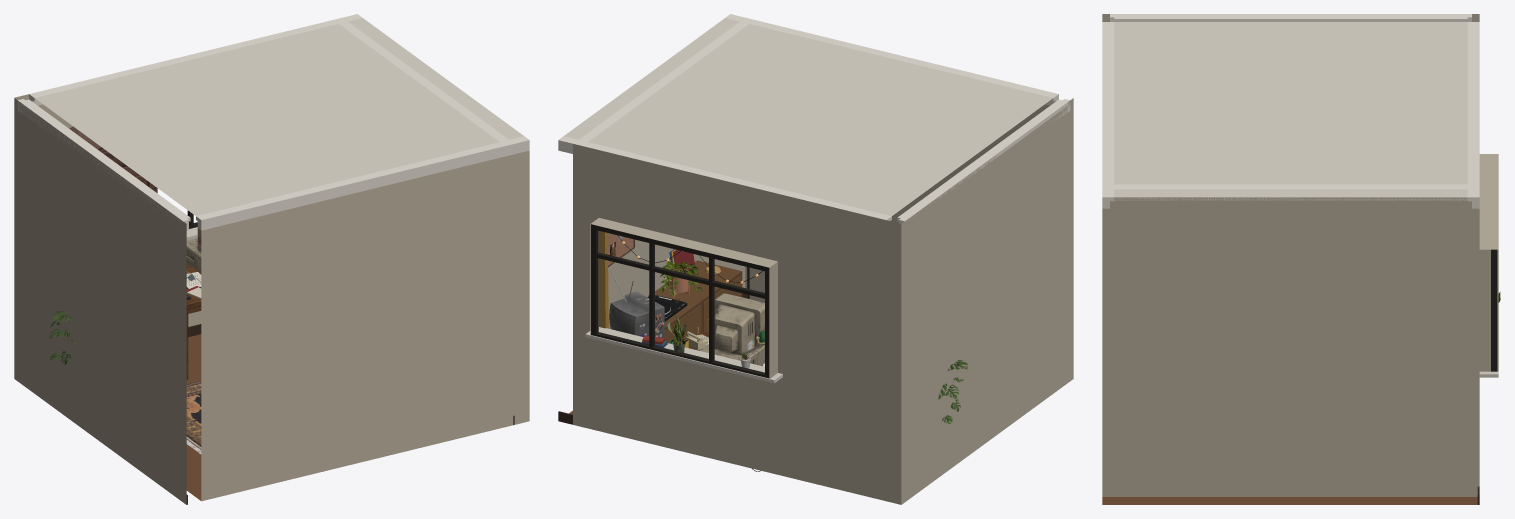
Rendered from room.glb.
The picture shows the model from 3 angles, left to right: view 1: azimuth 30°, elevation 25°; view 2: azimuth 150°, elevation 25°; view 3: azimuth 270°, elevation 25°; orthographic projection. The views are drawn at different scales.
Parts seen in each view (by area): view 1: Room; view 2: Room; view 3: Room.
Boxes of the visible parts, <box> form: Room: <box>14,14,529,504</box>; Room: <box>558,14,1073,504</box>; Room: <box>1102,14,1500,504</box>.
Bounding box in the file's own units: 3.58 × 2.73 × 3.17.
196 materials, 43 textured.
